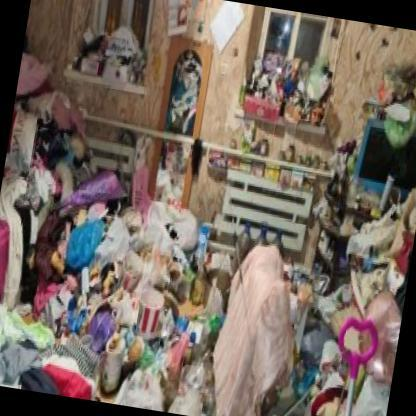Garbage: (41, 201, 182, 325), (74, 274, 174, 400), (27, 214, 108, 296), (92, 221, 164, 308), (149, 230, 200, 306)
